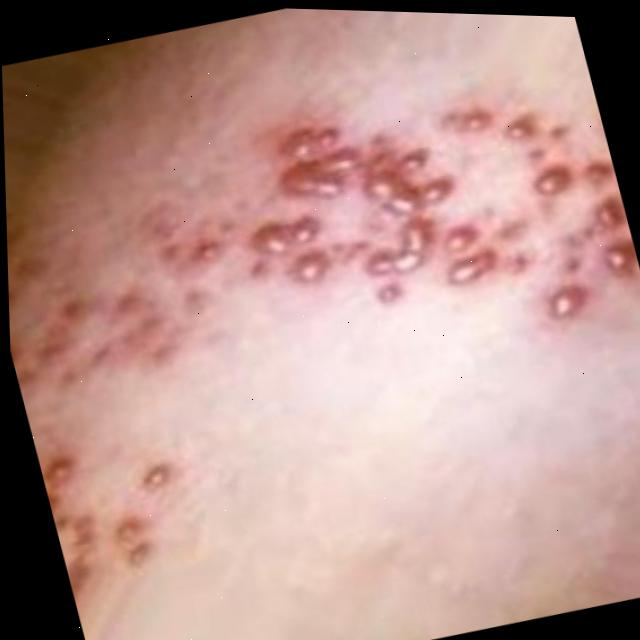Shingles: (212, 49, 640, 388), (37, 432, 191, 584)
